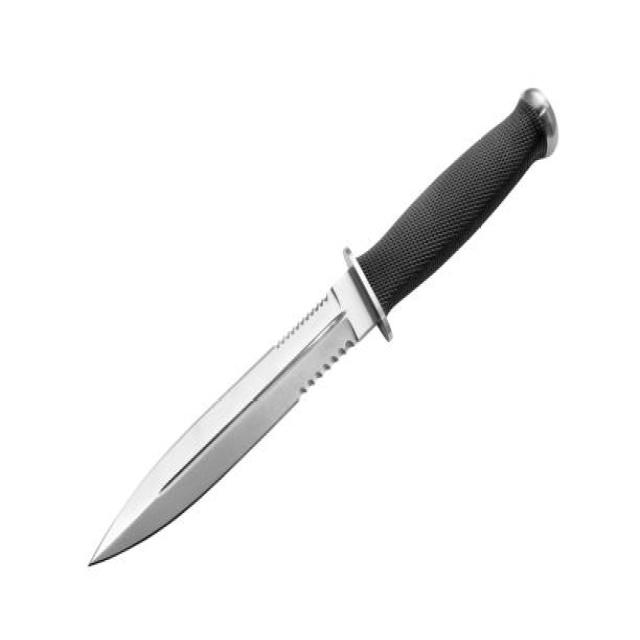knife: (80, 73, 570, 583)
